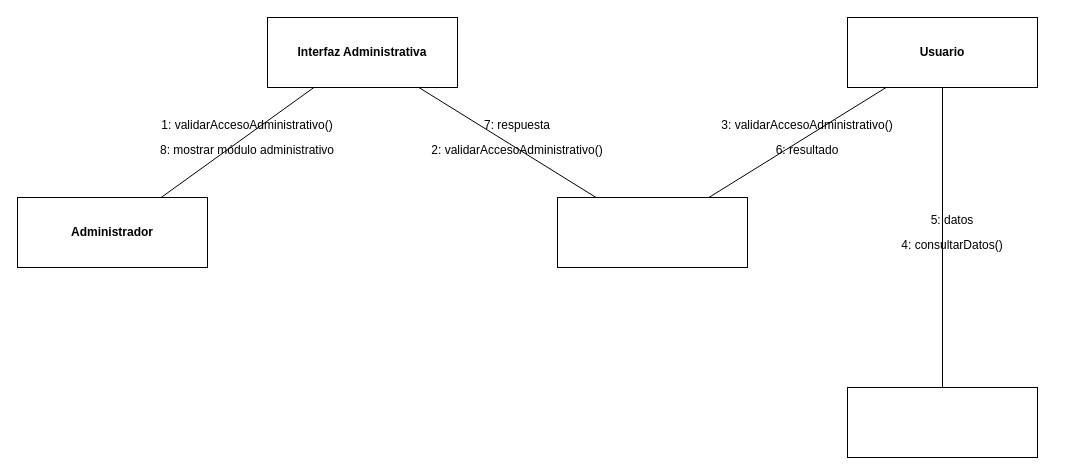
The diagram is 1075 pixels wide and 475 high, and some of its shapes have lost their labels. The shapes that lost their labels are listed below. From the top down, each one's box as (x1, y1, x2, y2) in pixels, then its label:
(556, 196, 748, 268): AdminController
(846, 386, 1038, 458): Supabase/PostgreSQL
